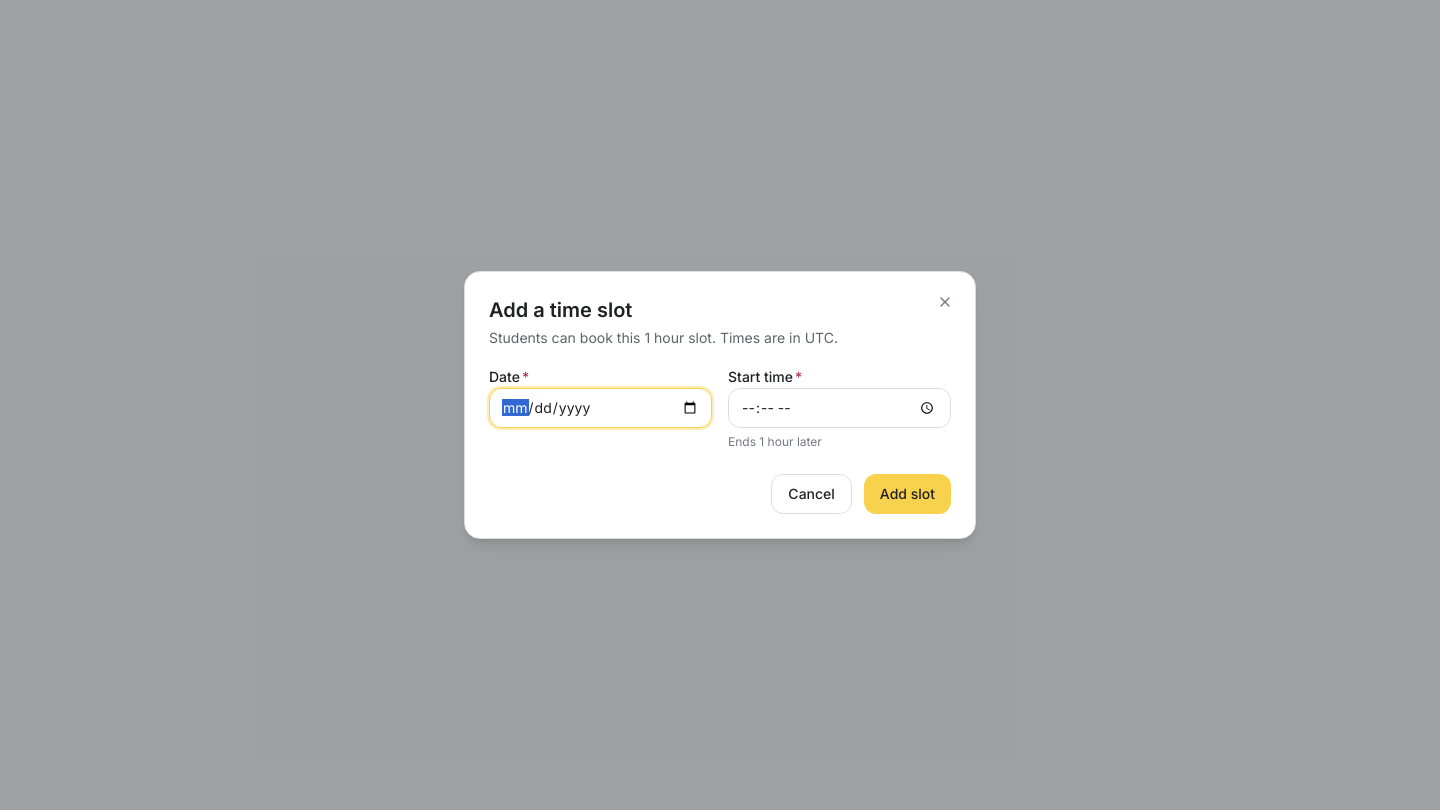
Test: AddSlotDialog › rejects a past time inline
The width and height of the screenshot is (1440, 810).
Type "2026-11-01" into the date field labelled "Date*" at {"x": 600, "y": 408}, box [489,388,712,428]
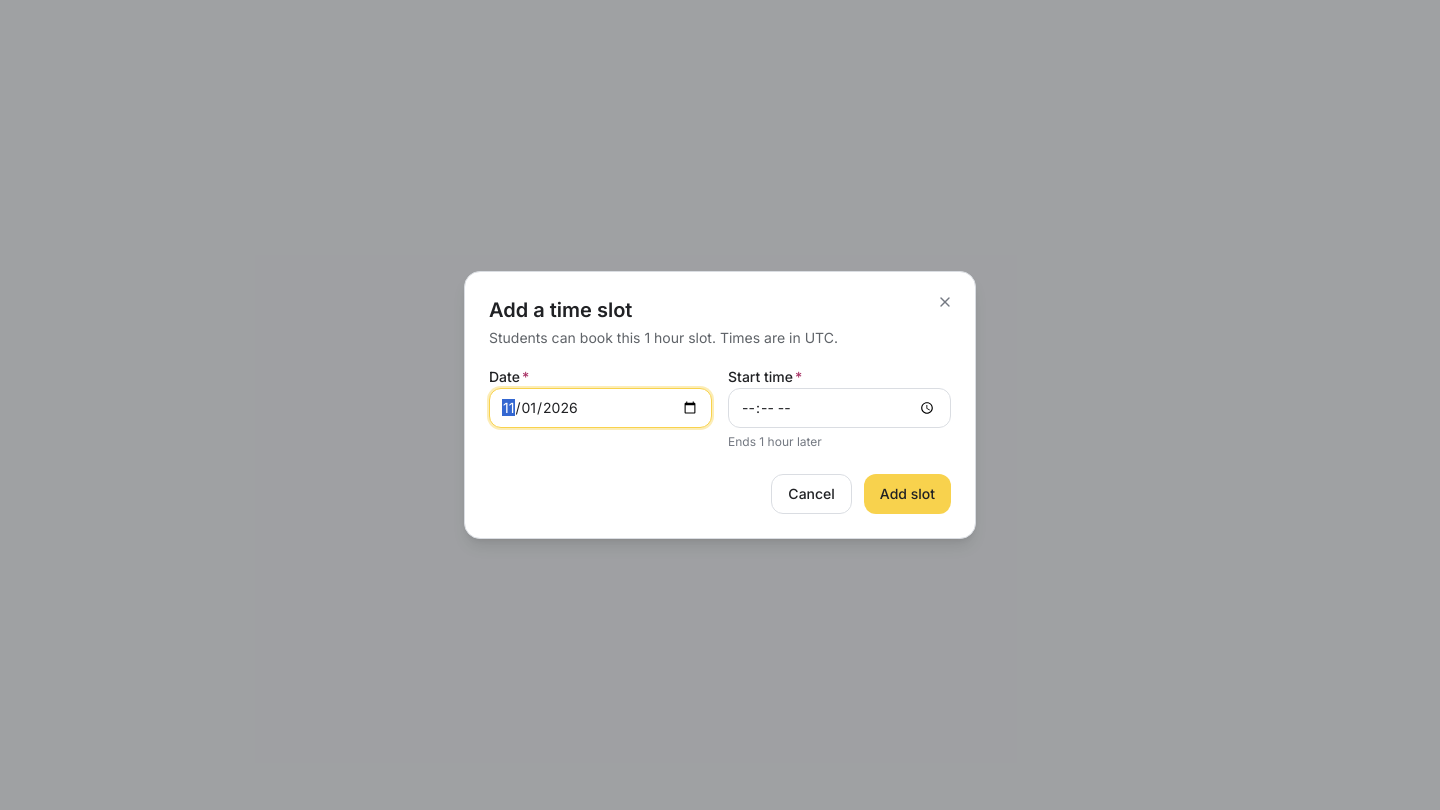
Type "08:00" into the time field labelled "Start time*" at {"x": 840, "y": 408}, box [728,388,951,428]
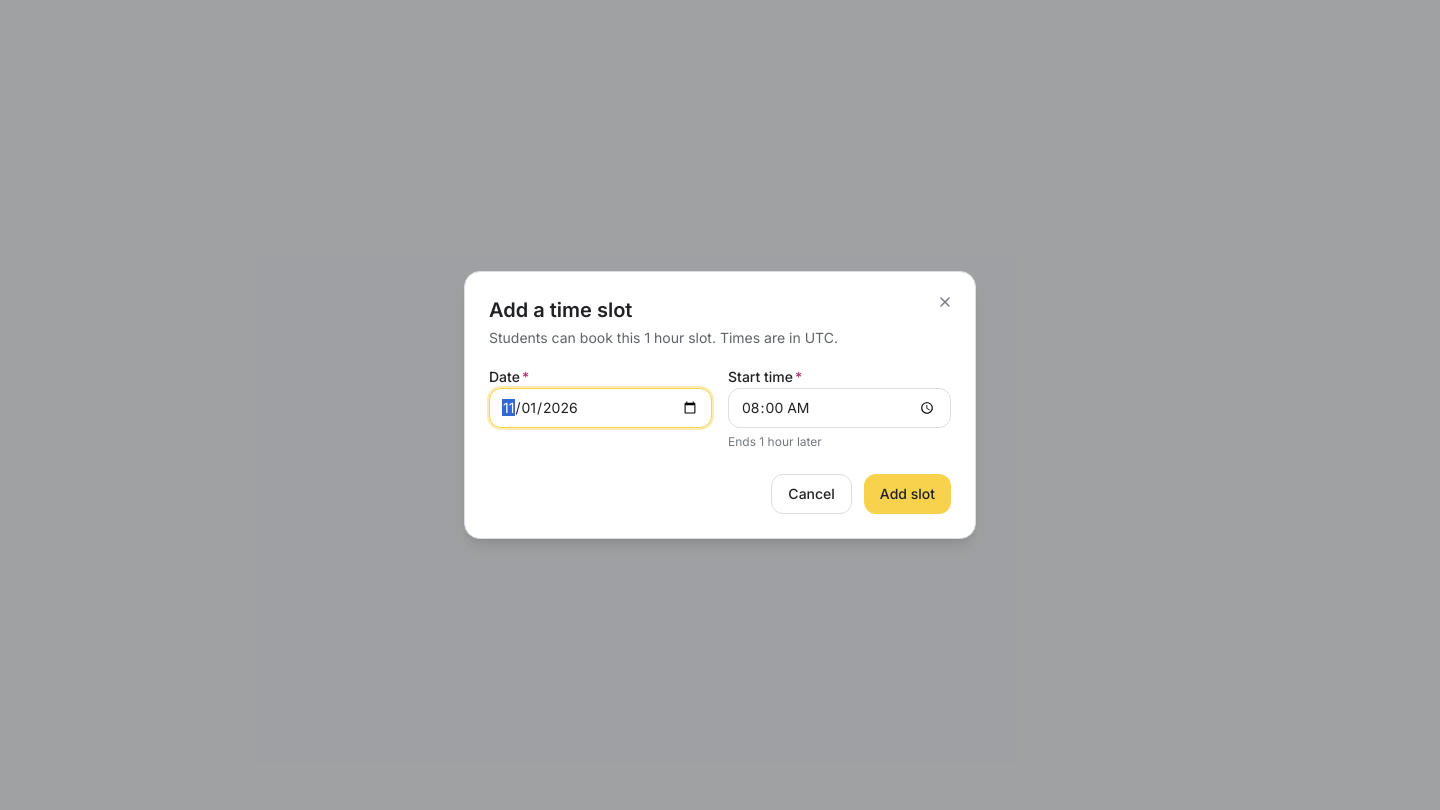
Click the button "Add slot" at {"x": 907, "y": 494}, box [864,474,951,514]
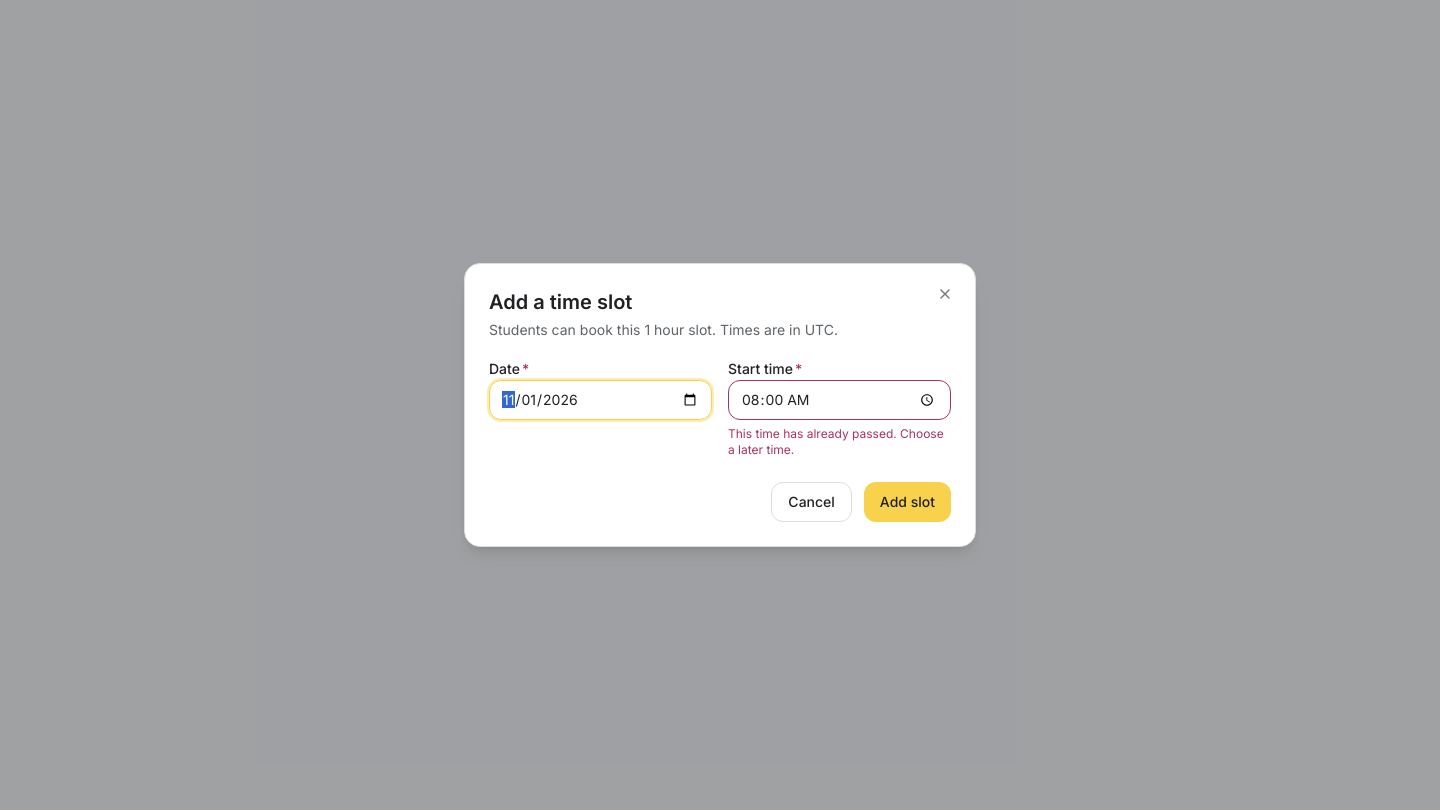
Expected: the text "This time has already passed. Choose a later time." is shown, [728,426,951,458]
